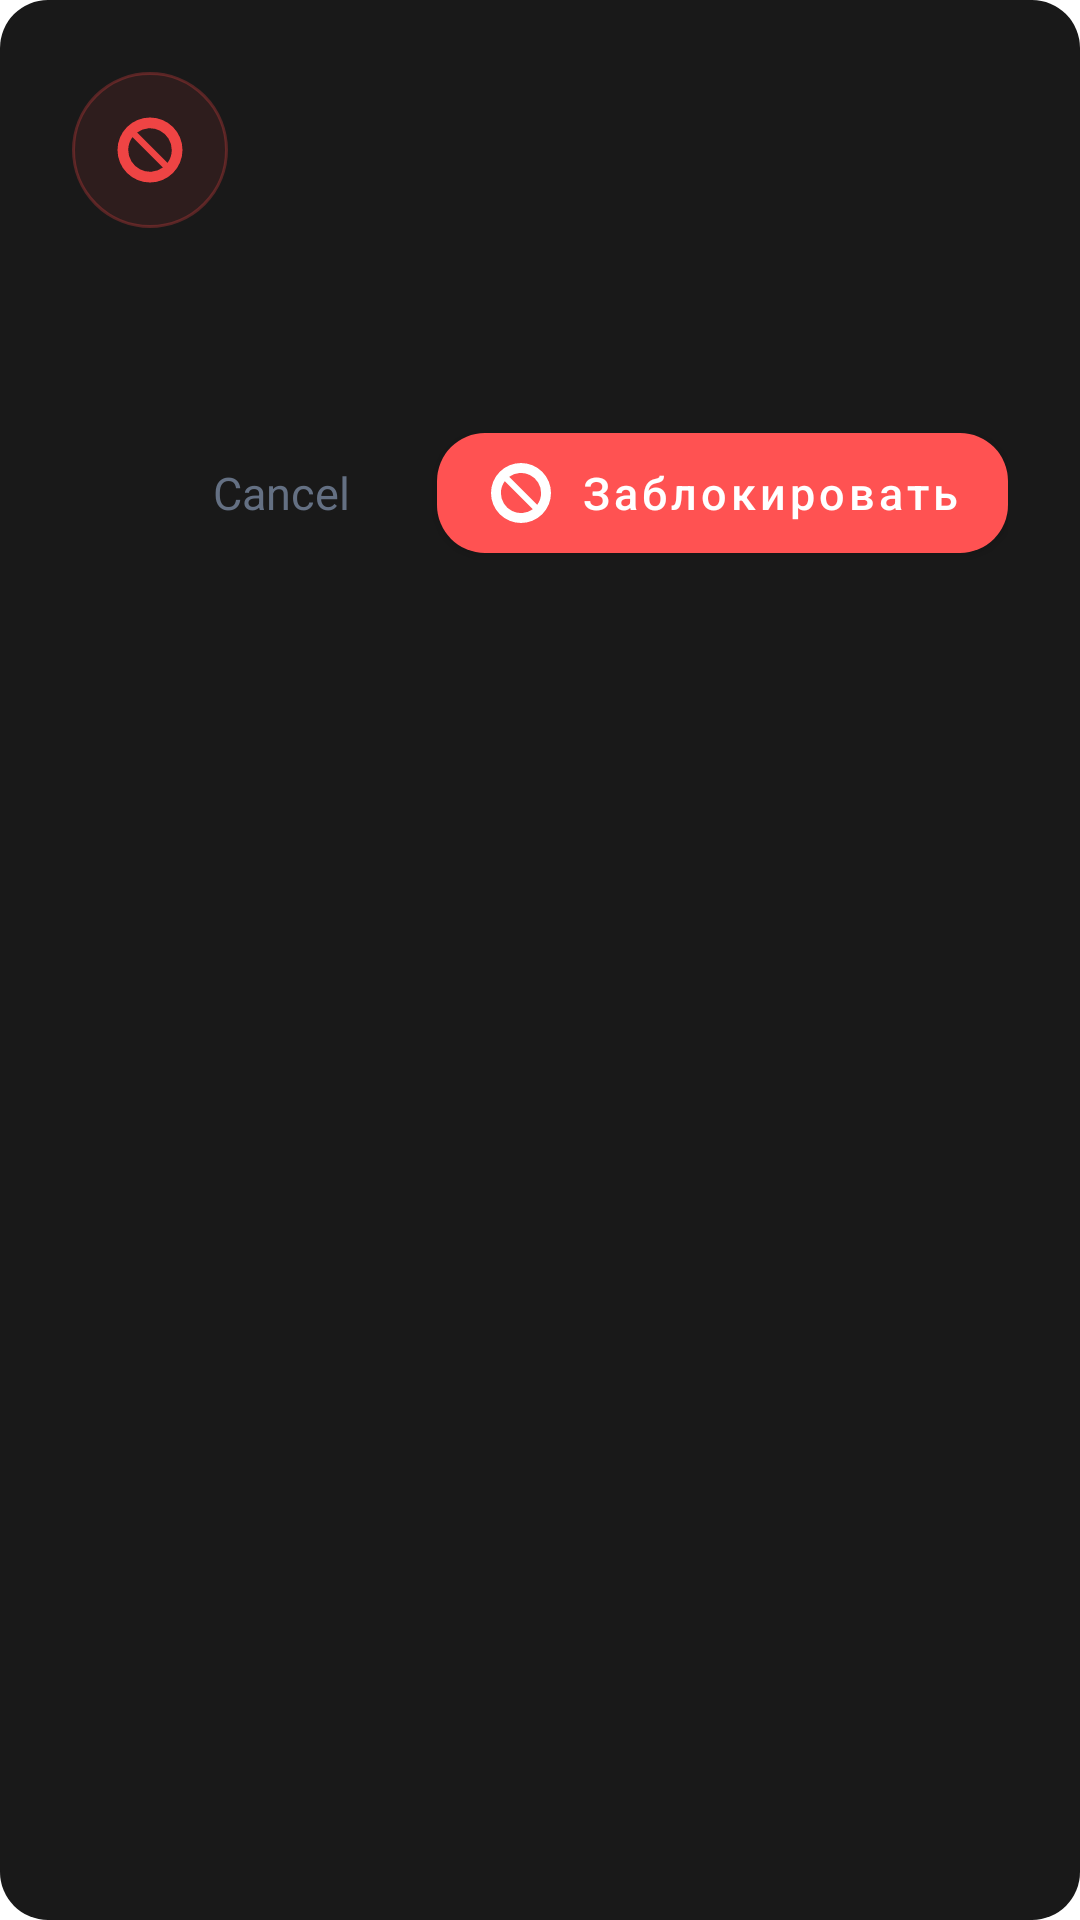

Screen size 1080*1920. Icon name, then its box in pixels as (x1, y1, x2, y2):
block user: (117, 117, 183, 183)
